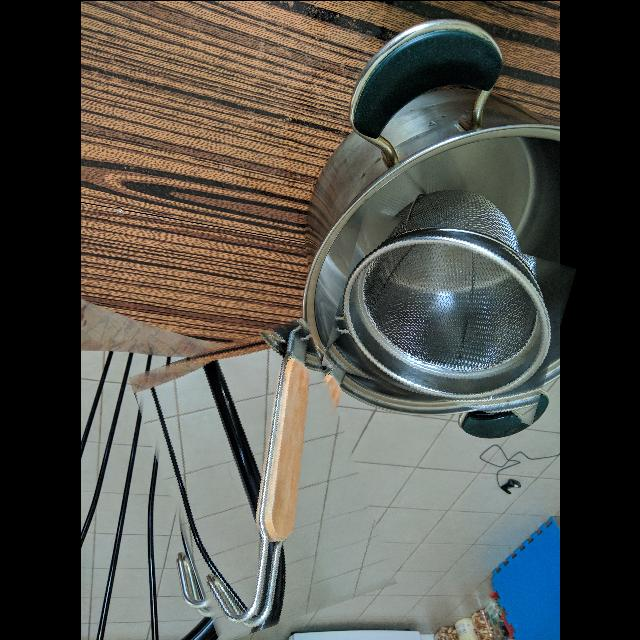Handle: (191, 325, 312, 630)
Strainer: (344, 241, 563, 402)
